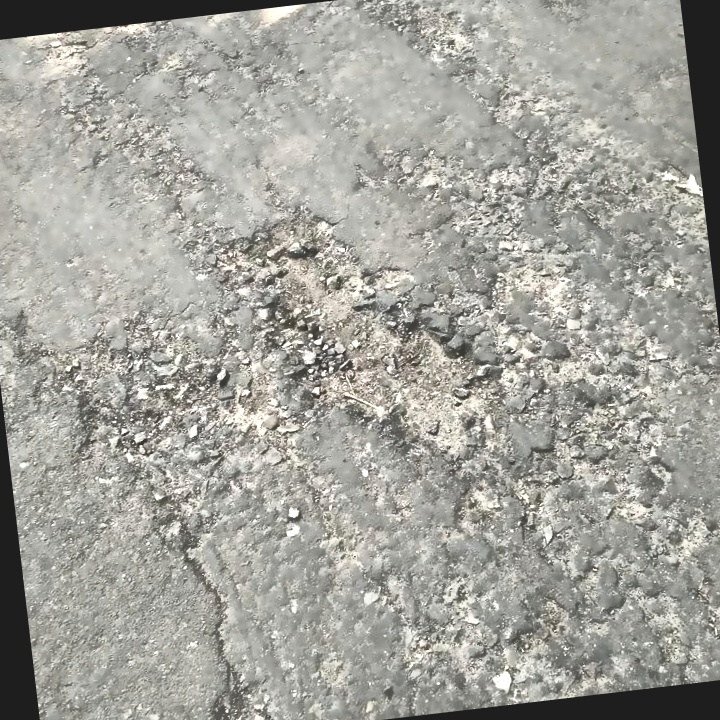pothole: (200, 182, 504, 479)
